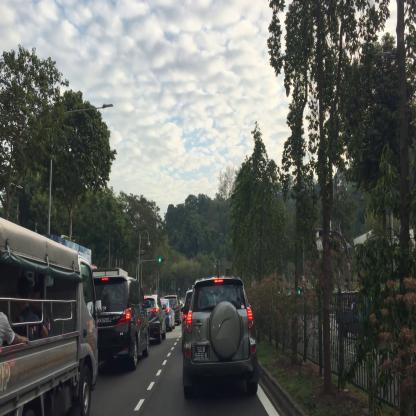green_traffic_light: (158, 257, 164, 262)
